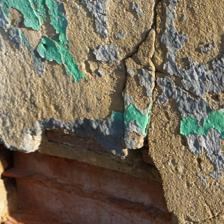Crack: (0, 0, 109, 34), (42, 74, 120, 92)
